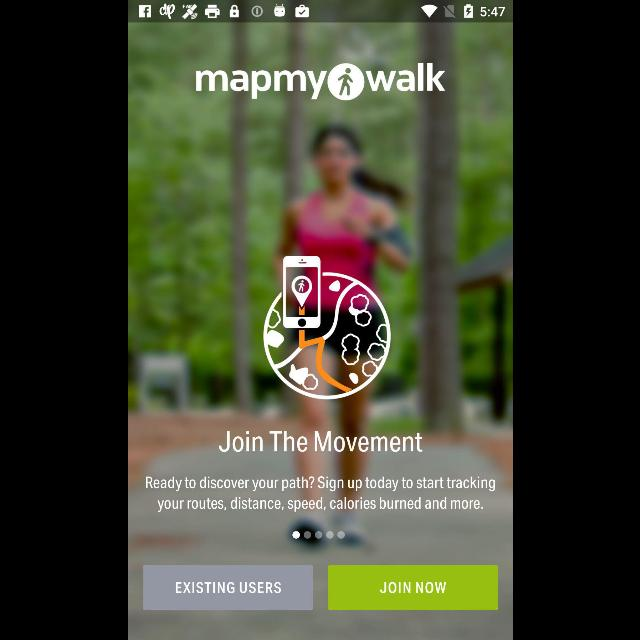backgroundimage: (128, 22, 512, 640)
image: (262, 256, 390, 400), (195, 63, 445, 101)
pageindicator: (291, 530, 345, 540)
text: (145, 476, 495, 512), (218, 431, 424, 453)
textbutton: (142, 566, 312, 610), (327, 566, 497, 610)
uppertaskbar: (128, 1, 512, 23)
